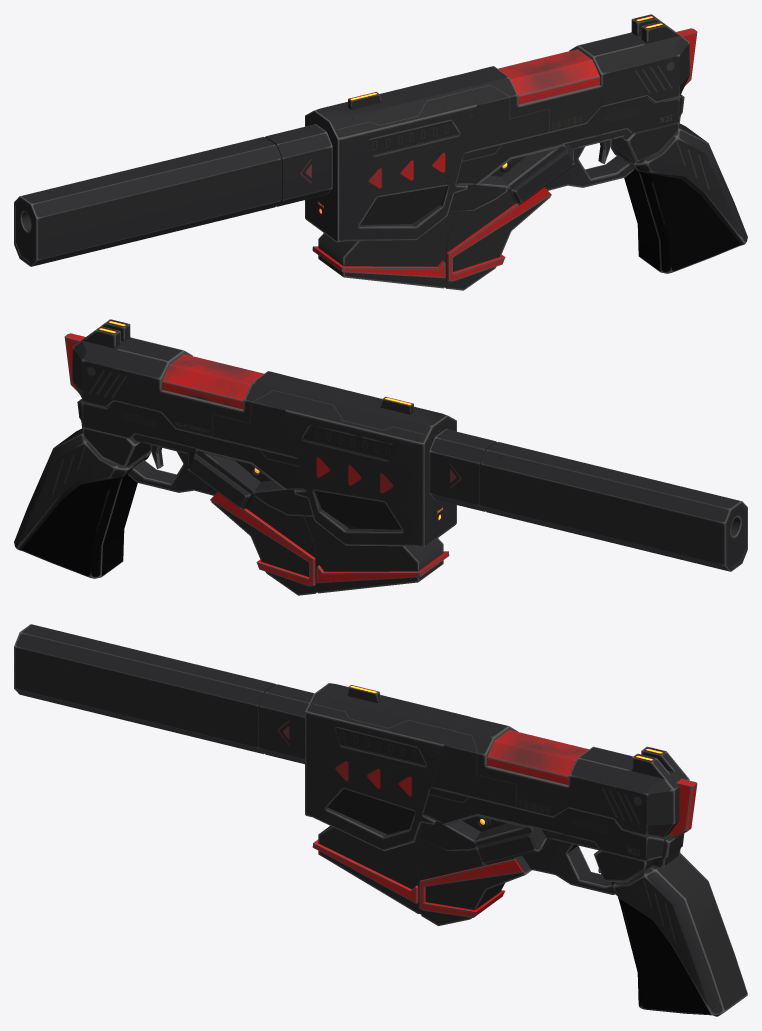
Rendered from _3dModel.glb.
3 views of the same model, one above another, from view 1: azimuth 30°, elevation 25°; view 2: azimuth 150°, elevation 25°; view 3: azimuth 330°, elevation 25° (orthographic).
Visible parts, largest first — view 1: Suppresor, polySurface3, polySurface4, polySurface11, polySurface7, polySurface5, Bullet_out, polySurface8, polySurface1, polySurface12, polySurface10, polySurface2 (+1 smaller); view 2: Suppresor, polySurface3, polySurface4, polySurface11, polySurface7, polySurface5, Bullet_out, polySurface8, polySurface1, polySurface12, polySurface10, polySurface2 (+1 smaller); view 3: Suppresor, polySurface3, polySurface4, polySurface11, polySurface7, polySurface5, Bullet_out, polySurface8, polySurface12, polySurface1, polySurface10, polySurface2 (+2 smaller).
Part boxes in pixels (x1,y1,x2,y2): Suppresor: (14,124,332,266); polySurface3: (305,75,476,242); polySurface4: (456,14,689,153); polySurface11: (611,123,747,273); polySurface7: (318,191,550,290); polySurface5: (456,96,681,184); Bullet_out: (498,49,599,104); polySurface8: (475,129,628,205); polySurface1: (446,187,551,281); polySurface12: (545,146,634,190); polySurface10: (611,94,684,163); polySurface2: (312,246,445,278); Suppresor: (429,429,747,571); polySurface3: (285,380,456,547); polySurface4: (72,319,305,458); polySurface11: (14,428,150,578); polySurface7: (211,496,443,595); polySurface5: (80,400,305,489); Bullet_out: (162,354,263,409); polySurface8: (133,434,286,510); polySurface1: (210,492,315,586); polySurface12: (127,451,216,495); polySurface10: (77,399,150,468); polySurface2: (316,551,449,583); Suppresor: (14,624,313,764); polySurface3: (305,683,470,851); polySurface4: (431,717,689,837); polySurface11: (611,853,747,1016); polySurface7: (318,826,531,925); polySurface5: (423,787,670,860); Bullet_out: (487,730,588,784); polySurface8: (442,814,599,865); polySurface12: (523,839,615,894); polySurface1: (419,858,523,917); polySurface10: (593,833,684,882); polySurface2: (312,839,418,903).
Bounding box in the file's own units: 2.4 × 0.7904 × 0.2252.
Materials: 1 (1 with a texture image).
